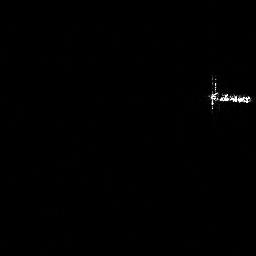ship: (204, 73, 256, 113)
